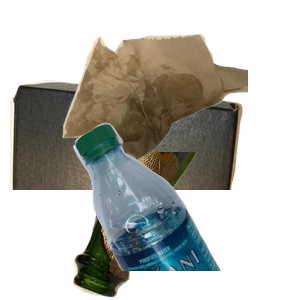cardboard: (10, 77, 245, 257)
glass: (71, 152, 260, 300)
plastic: (71, 120, 300, 300)
trash: (60, 31, 300, 189)
